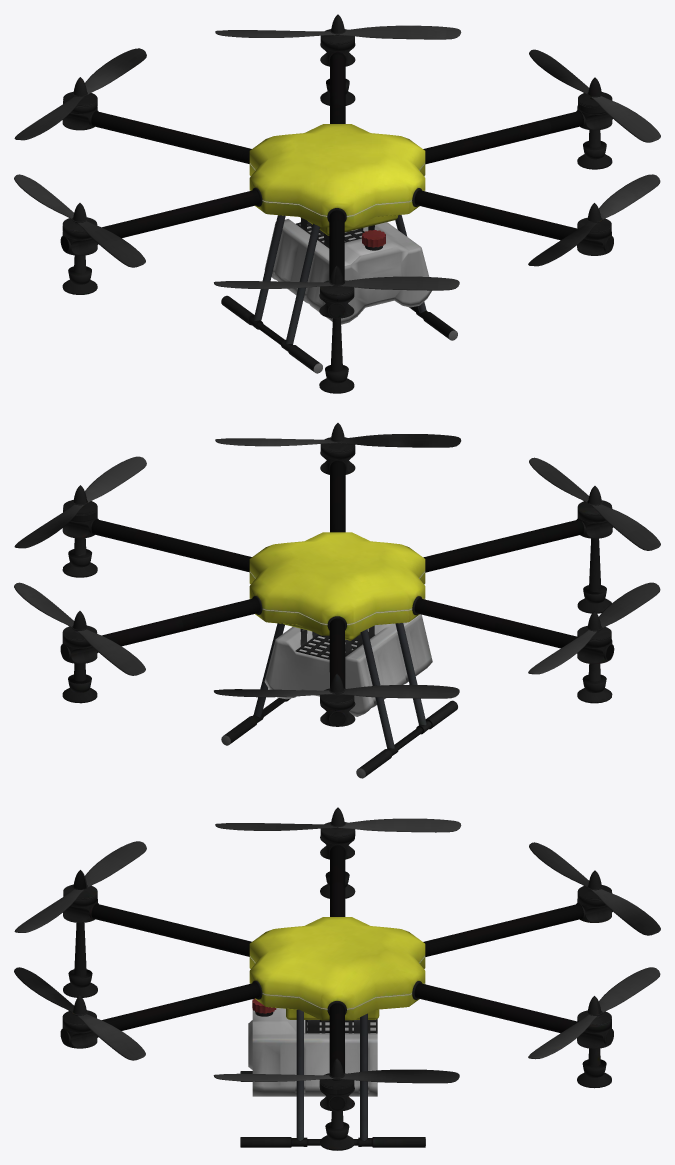
Rendered from agri-hex.glb.
3 renders of one model, top to bottom at view 1: azimuth 30°, elevation 25°; view 2: azimuth 150°, elevation 25°; view 3: azimuth 270°, elevation 25°, orthographic.
Parts seen in each view (by area): view 1: pCylinder20, pCylinder7, polySurface24, polySurface6, polySurface9, polySurface5, polySurface8, polySurface7, polySurface4, pCylinder26, pCylinder23, polySurface13 (+2 smaller); view 2: pCylinder20, pCylinder7, polySurface24, polySurface4, polySurface7, polySurface9, polySurface6, polySurface8, polySurface5, pCylinder26, pCylinder23, polySurface13 (+8 smaller); view 3: pCylinder20, pCylinder7, polySurface24, polySurface8, polySurface5, polySurface7, polySurface4, polySurface9, polySurface6, pCylinder26, pCylinder23, polySurface13 (+7 smaller).
Part boxes in pixels (left/top/right/bottom): pCylinder20: left=249, top=124, right=425, bottom=227; pCylinder7: left=61, top=52, right=613, bottom=317; polySurface24: left=264, top=219, right=431, bottom=324; polySurface6: left=215, top=14, right=461, bottom=39; polySurface9: left=214, top=266, right=459, bottom=290; polySurface5: left=529, top=49, right=660, bottom=142; polySurface8: left=14, top=174, right=145, bottom=267; polySurface7: left=14, top=48, right=146, bottom=140; polySurface4: left=528, top=174, right=660, bottom=266; pCylinder26: left=253, top=215, right=426, bottom=344; pCylinder23: left=221, top=295, right=457, bottom=373; polySurface13: left=319, top=318, right=354, bottom=393; pCylinder20: left=249, top=532, right=425, bottom=635; pCylinder7: left=61, top=460, right=613, bottom=725; polySurface24: left=264, top=614, right=432, bottom=716; polySurface4: left=215, top=423, right=461, bottom=447; polySurface7: left=214, top=674, right=459, bottom=698; polySurface9: left=529, top=457, right=660, bottom=550; polySurface6: left=14, top=582, right=145, bottom=675; polySurface8: left=528, top=582, right=660, bottom=674; polySurface5: left=14, top=456, right=146, bottom=548; pCylinder26: left=253, top=623, right=426, bottom=748; pCylinder23: left=221, top=698, right=457, bottom=778; polySurface13: left=577, top=538, right=611, bottom=613; pCylinder20: left=249, top=917, right=425, bottom=1020; pCylinder7: left=61, top=845, right=613, bottom=1110; polySurface24: left=248, top=999, right=377, bottom=1096; polySurface8: left=215, top=807, right=461, bottom=832; polySurface5: left=213, top=1058, right=459, bottom=1083; polySurface7: left=529, top=842, right=660, bottom=935; polySurface4: left=14, top=967, right=145, bottom=1060; polySurface9: left=14, top=841, right=146, bottom=932; polySurface6: left=528, top=967, right=660, bottom=1059; pCylinder26: left=296, top=1009, right=367, bottom=1140; pCylinder23: left=240, top=1071, right=425, bottom=1147; polySurface13: left=63, top=923, right=97, bottom=997.
Bounding box in the file's own units: 0.2092 × 0.0667 × 0.2151.
1 material, 1 textured.
